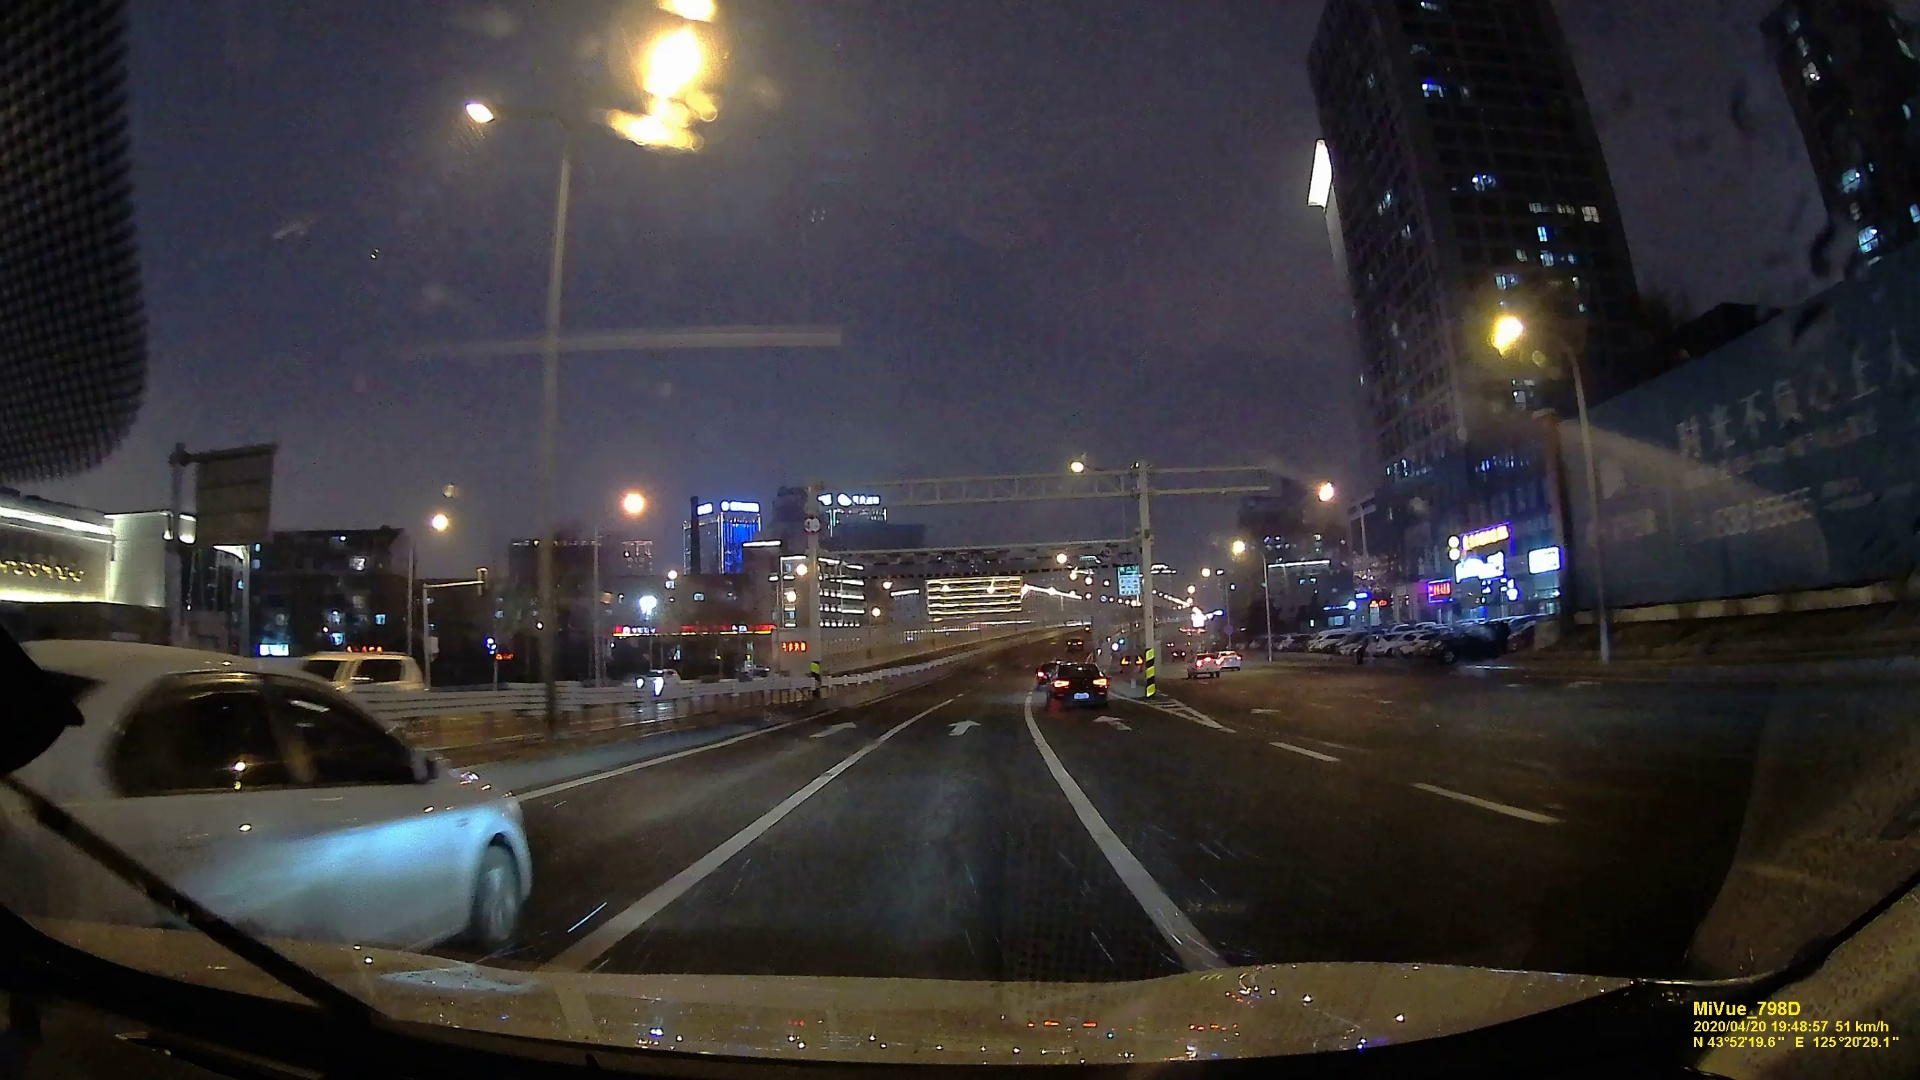traffic_sign: (1117, 560, 1143, 597)
vehicle: (1, 640, 534, 952), (1042, 659, 1110, 708), (636, 669, 682, 694), (1188, 651, 1222, 679)
